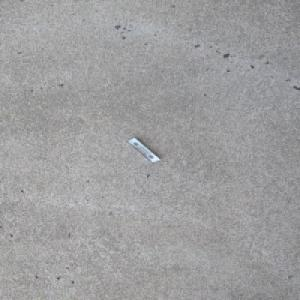ClampPart: (124, 137, 162, 163)
